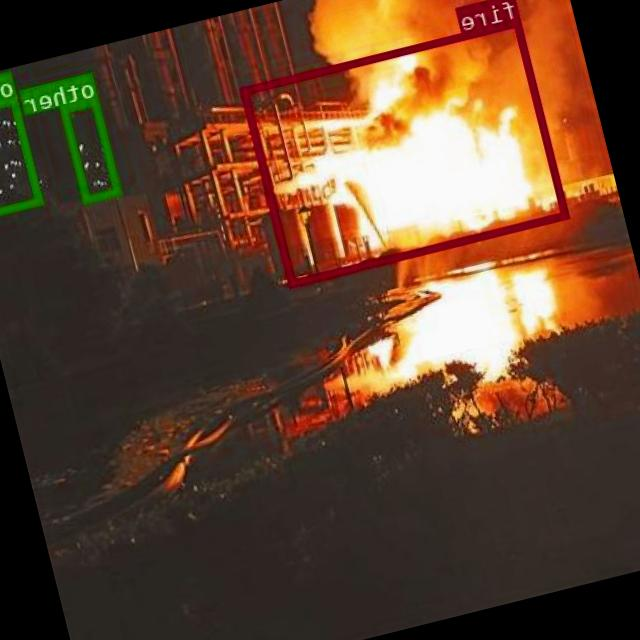fire: (242, 17, 570, 286)
